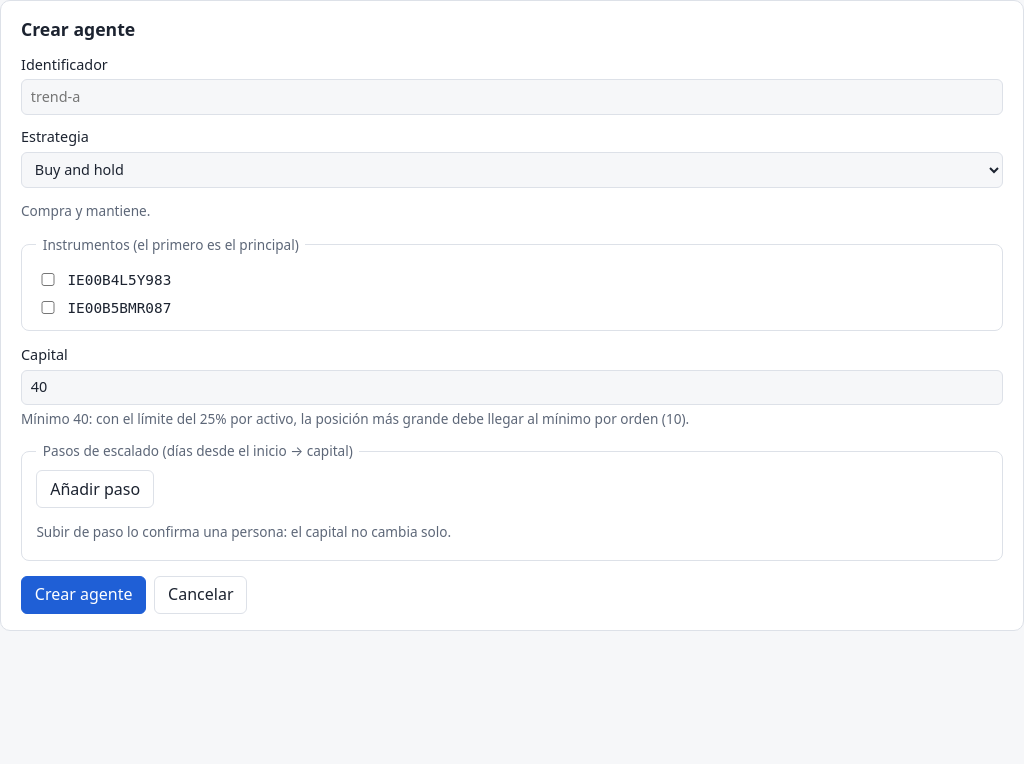
Test: AgentForm (create) › builds the parameter fields from the chosen strategy with their defaults
The width and height of the screenshot is (1024, 764).
Select "Trend" in the dropdown labelled "Estrategia" at x=512, y=170, box [21, 152, 1003, 188]
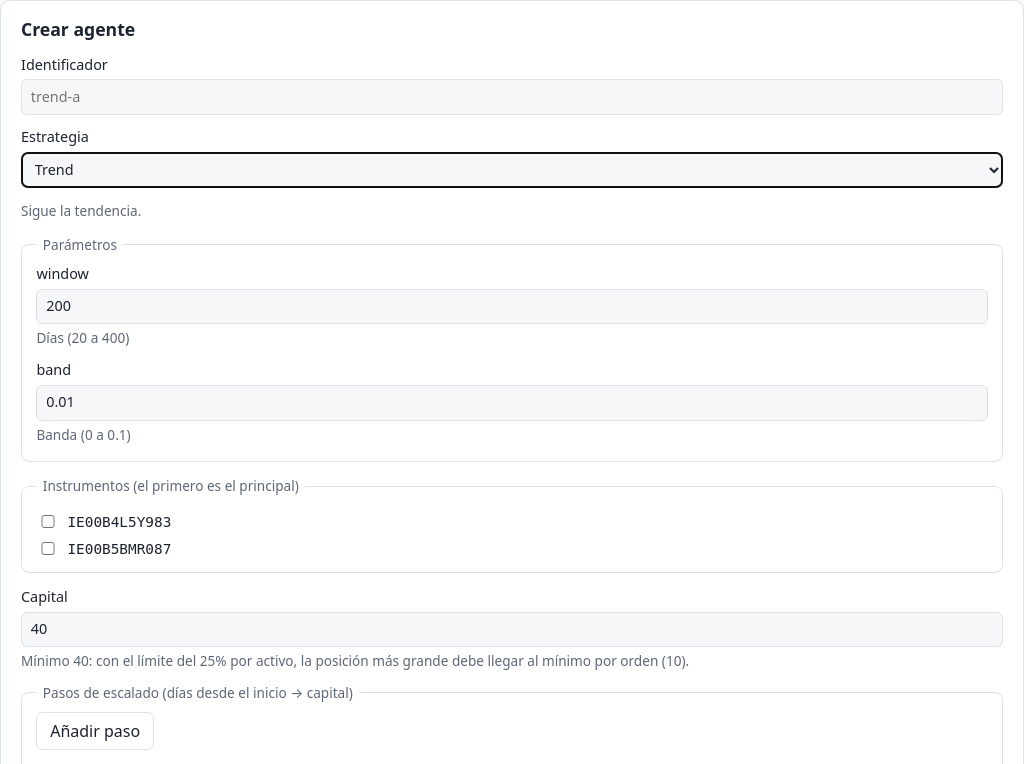
Check: the number field labelled "window Días (20 a 400)" holds "200", box [36, 289, 988, 324]
Check: the number field labelled "band Banda (0 a 0.1)" holds "0.01", box [36, 385, 988, 421]
Check: the text "Sigue la tendencia." is shown, box [21, 201, 141, 220]
Select "Buy and hold" in the dropdown labelled "Estrategia" at x=512, y=170, box [21, 152, 1003, 188]
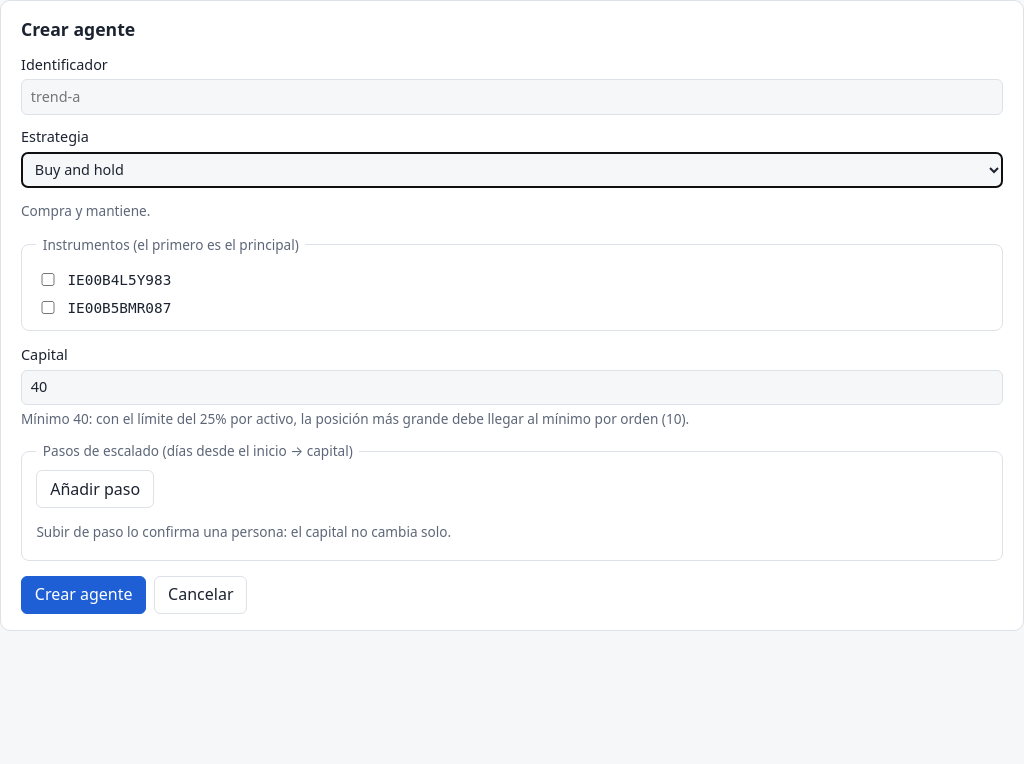
Check: the label labelled "window" is gone
